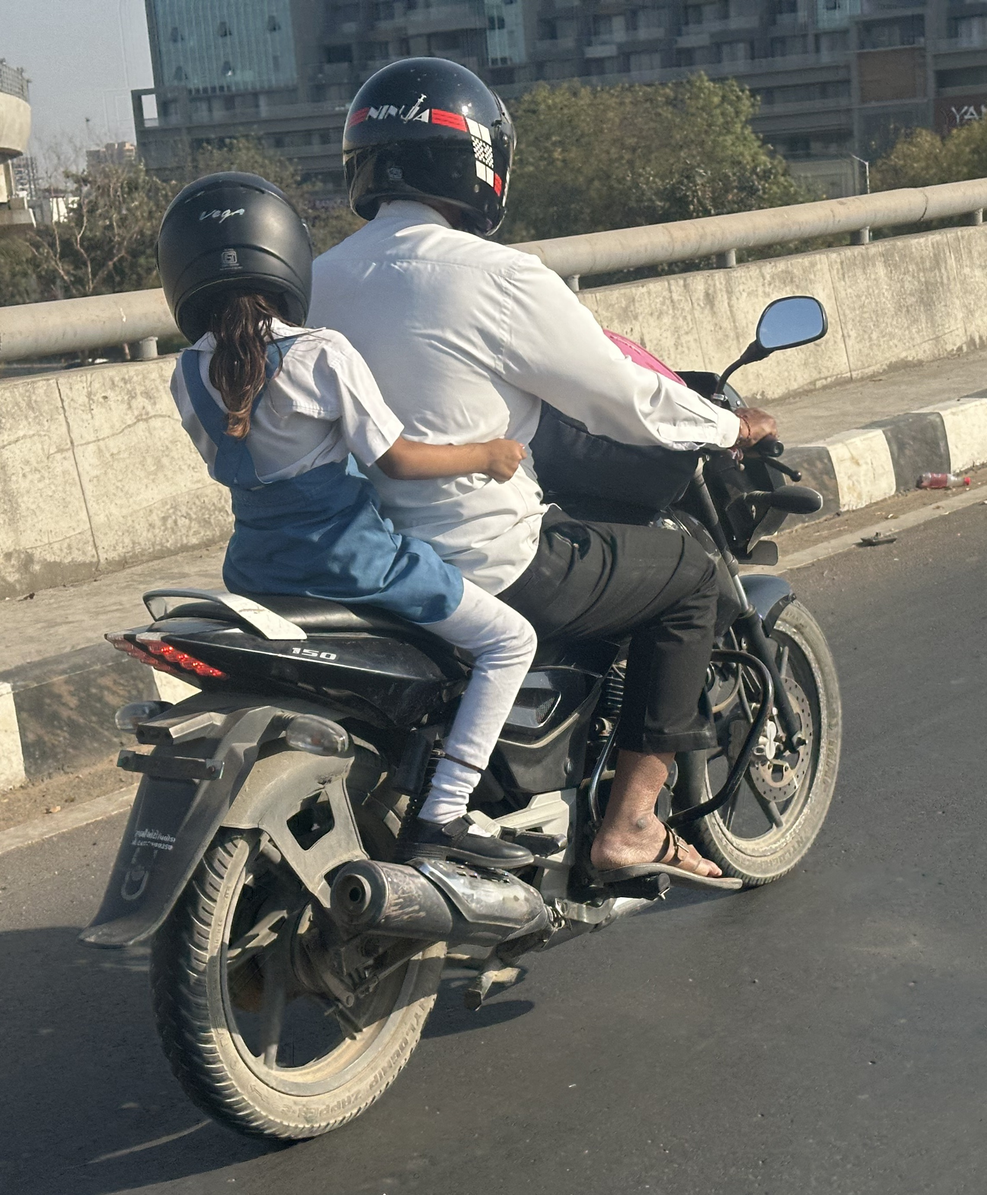BikeWithRider: (70, 42, 878, 1151)
Helmet: (332, 44, 557, 249), (145, 158, 324, 378)
